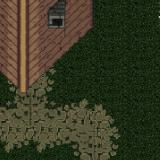Obstacle: (0, 0, 117, 27)
